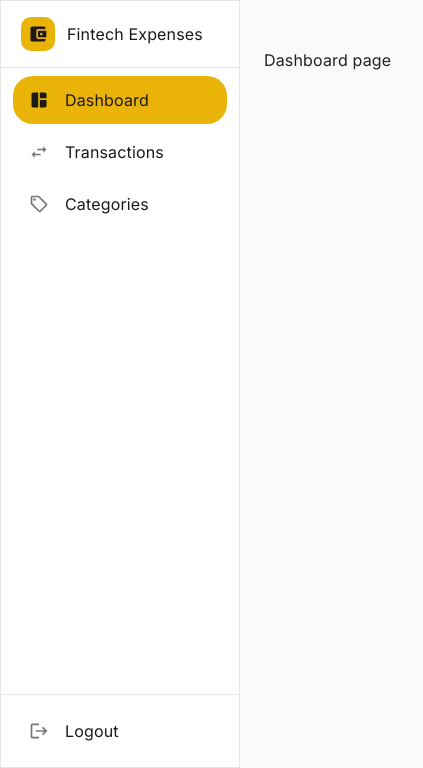
Layout › navigates between sections
The width and height of the screenshot is (423, 768).
Click the link "Transactions": (96, 152) [29,142,164,162]
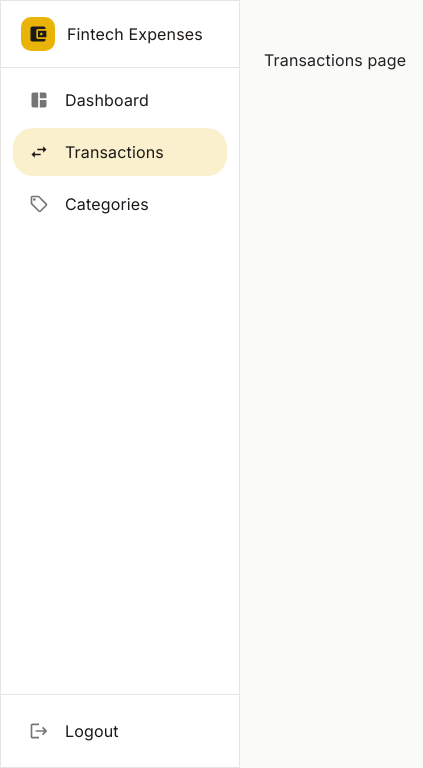
Check: the text "Transactions page" is shown, box [264,50,406,70]
